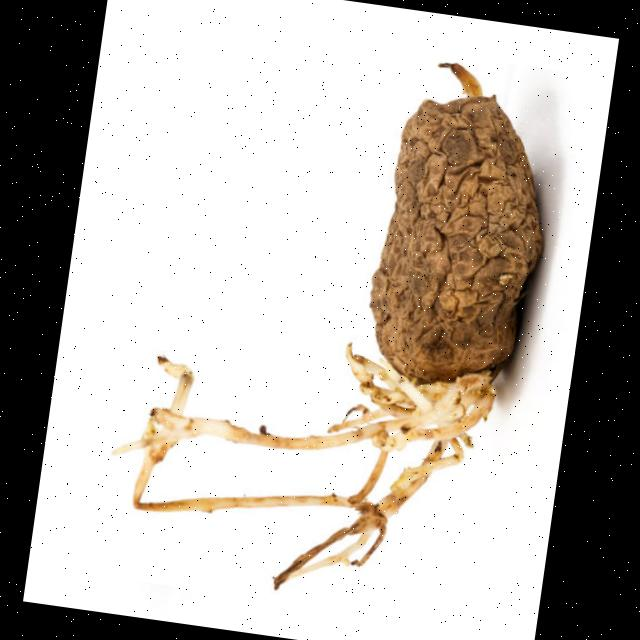Sprouted potato: (91, 16, 608, 636)
